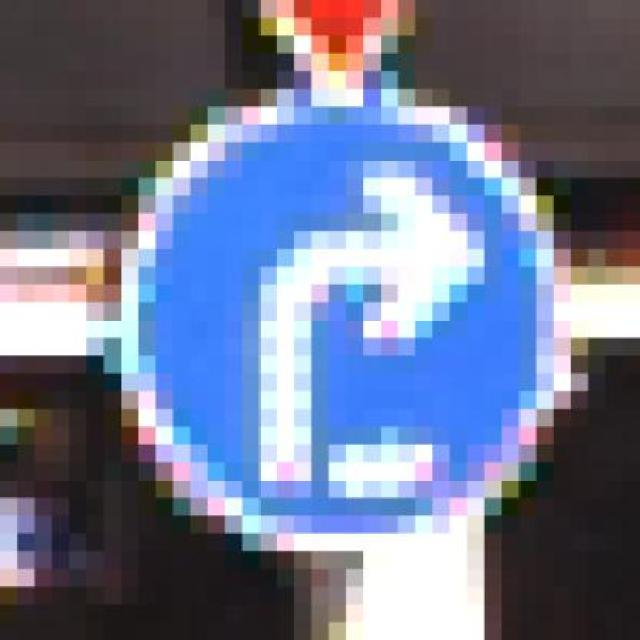Turn right ahead: (85, 88, 587, 550)
